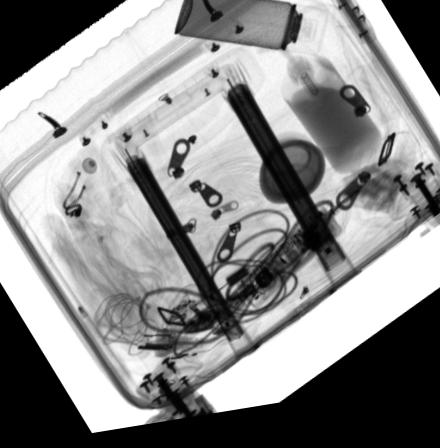Sprayer: (175, 0, 329, 65)
